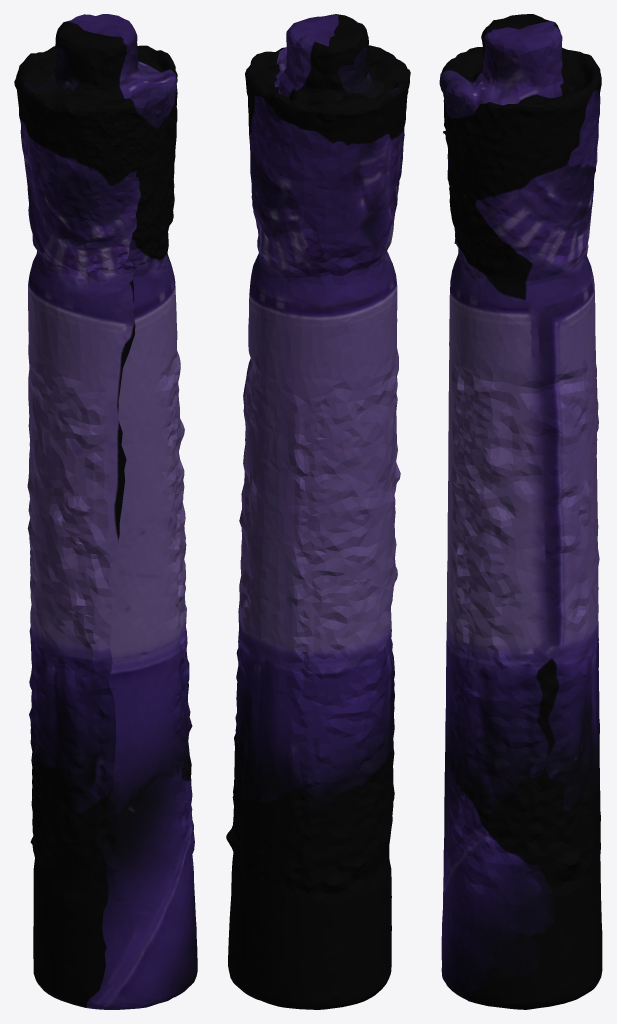
The picture shows the model from 3 angles, left to right: view 1: azimuth 30°, elevation 25°; view 2: azimuth 150°, elevation 25°; view 3: azimuth 270°, elevation 25°; orthographic projection.
Visible parts, largest first — view 1: node; view 2: node; view 3: node.
Boxes of the visible parts, x1,y1,x2,y2 form: node: [14, 14, 197, 1009]; node: [226, 14, 410, 1009]; node: [439, 14, 602, 1009].
Bounding box in the file's own units: 0.021 × 0.121 × 0.0189.
